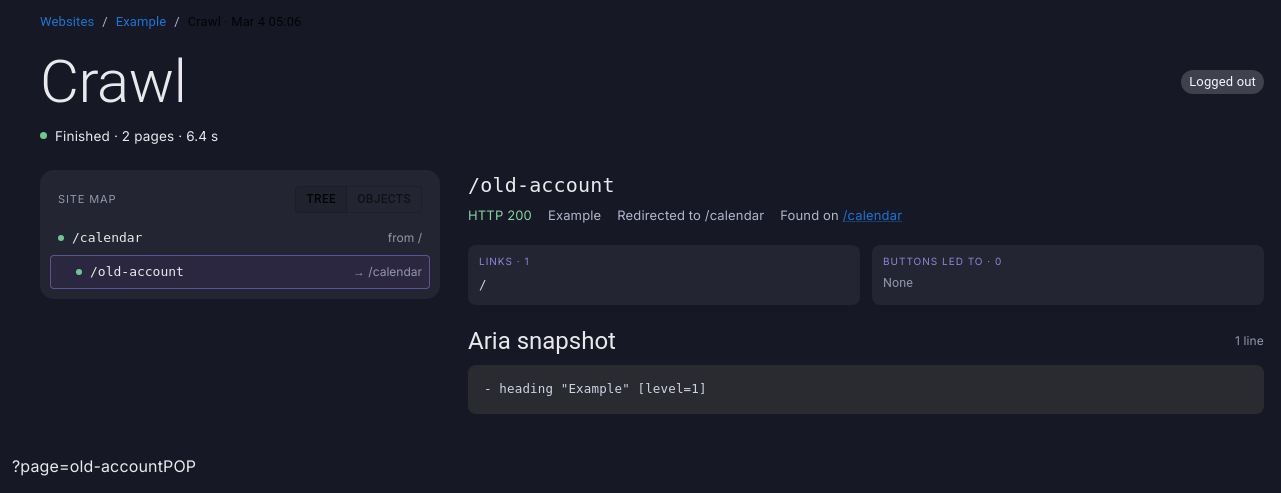
Test: CrawlRunPage › labels redirects in the site map and the details, and lets a link to a requested URL select the page it led to
Expected: the button "/calendar from /" is shown, [50,221,430,255]
Expected: the button "/old-account → /calendar" is shown, [50,255,430,289]
Note: "/" was only ever requested: the page it led to is recorded as /calendar.
Click the button "/": (483, 286) [479,274,487,297]
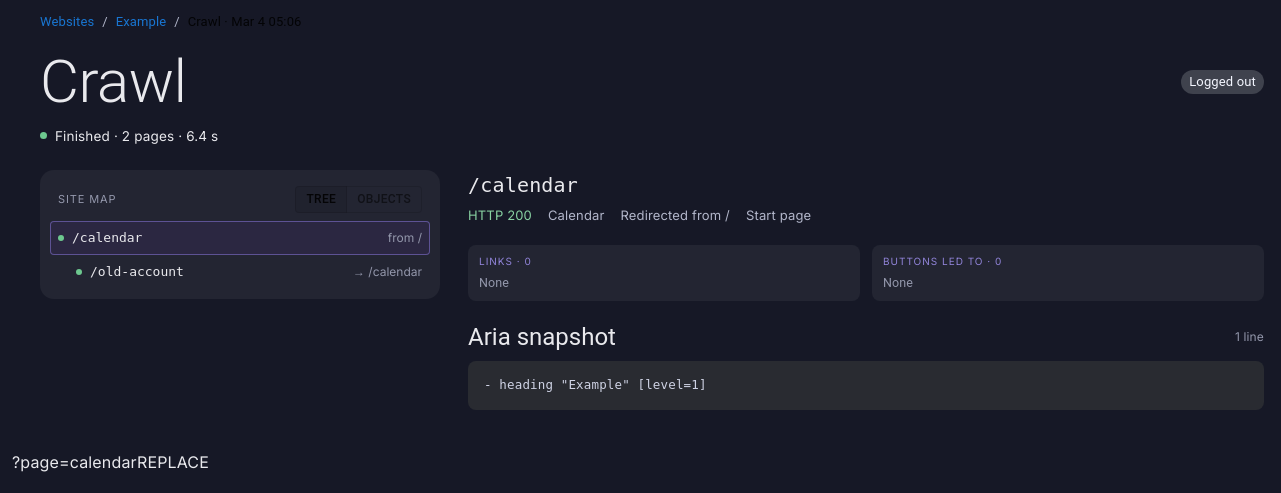
Result: the heading "/calendar" is shown at [468,173,578,197]
Result: the element "/calendar" shows "Redirected from /" at [620,207,730,223]
Result: the text with test id "probe-search" reads "?page=calendar" at [12,452,137,472]
